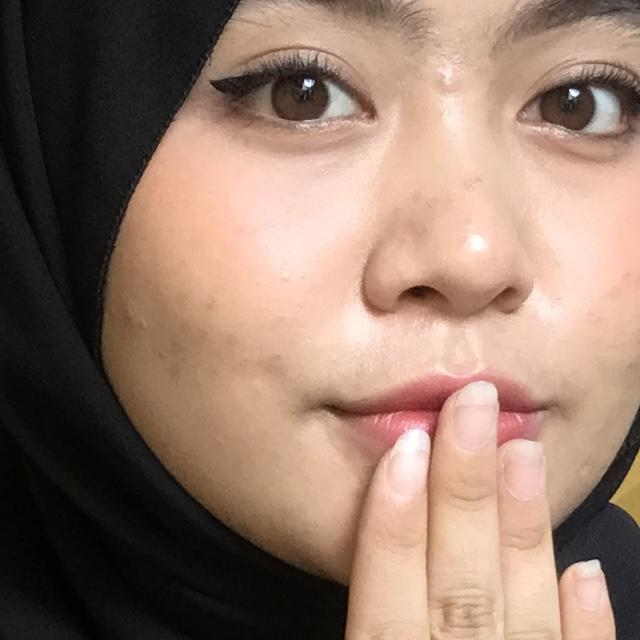ganteng: (185, 356, 640, 640)
